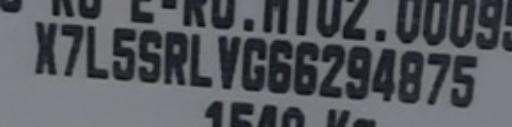letter: (239, 35, 269, 94), (343, 44, 373, 103), (395, 48, 425, 105), (448, 53, 478, 110), (214, 33, 242, 92), (370, 46, 398, 105), (187, 32, 215, 89), (292, 40, 320, 97), (318, 42, 346, 99), (109, 27, 137, 82), (266, 38, 294, 93), (425, 51, 453, 106), (60, 21, 86, 80), (32, 19, 58, 76), (85, 23, 111, 80), (136, 28, 162, 83), (163, 30, 189, 85)
